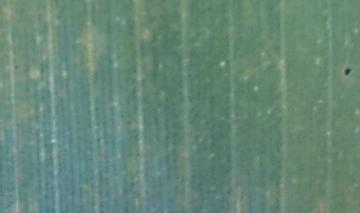tarspot: (342, 66, 352, 77), (11, 61, 20, 72)
